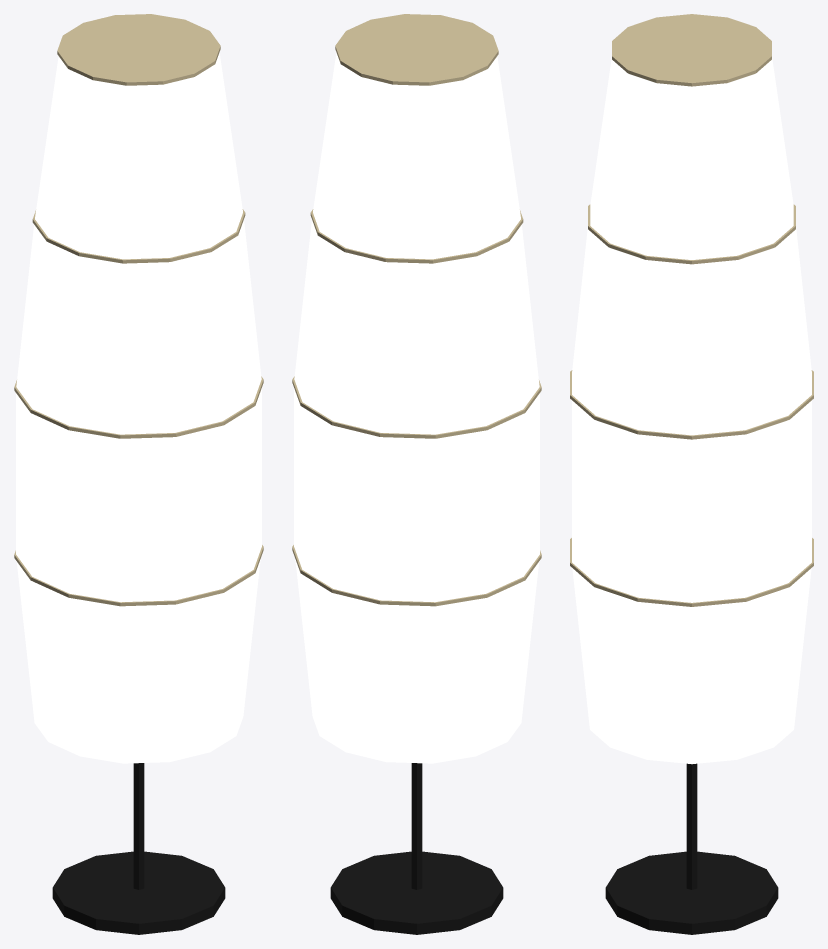
File: lamp_paper.glb
3 views of the same model, side by side, from view 1: azimuth 30°, elevation 25°; view 2: azimuth 150°, elevation 25°; view 3: azimuth 270°, elevation 25° (orthographic).
Parts seen in each view (by area): view 1: Lamp_paper; view 2: Lamp_paper; view 3: Lamp_paper.
Part boxes in pixels (x1,y1,x2,y2): Lamp_paper: (14, 14, 263, 934); Lamp_paper: (292, 14, 541, 934); Lamp_paper: (570, 14, 813, 934).
Size of the model in its own units: 0.406 by 1.52 by 0.3958.
